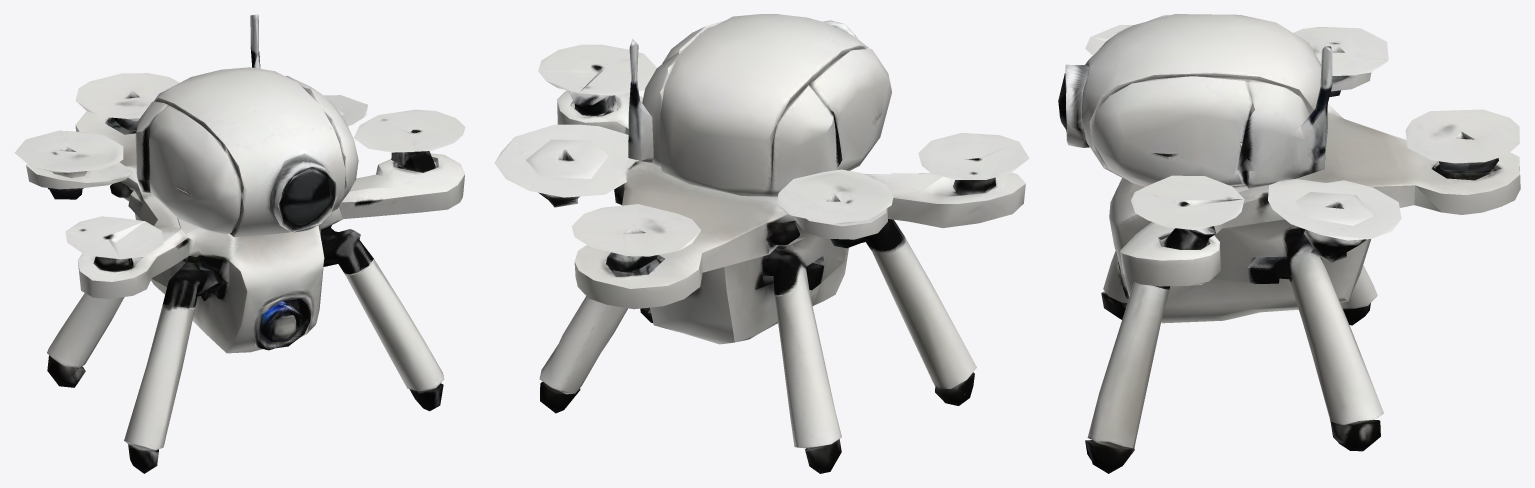
Rendered from m2LabDrone.glb.
3 views of the same model, side by side, from view 1: azimuth 30°, elevation 25°; view 2: azimuth 150°, elevation 25°; view 3: azimuth 270°, elevation 25° (orthographic). The views are drawn at different scales.
Parts seen in each view (by area): view 1: model; view 2: model; view 3: model.
Part boxes in pixels (x1,y1,x2,y2): model: (14, 14, 465, 473); model: (494, 14, 1029, 473); model: (1058, 14, 1520, 473).
Bounding box in the file's own units: 1.89 × 1.54 × 1.67.
Materials: 1 (1 with a texture image).
